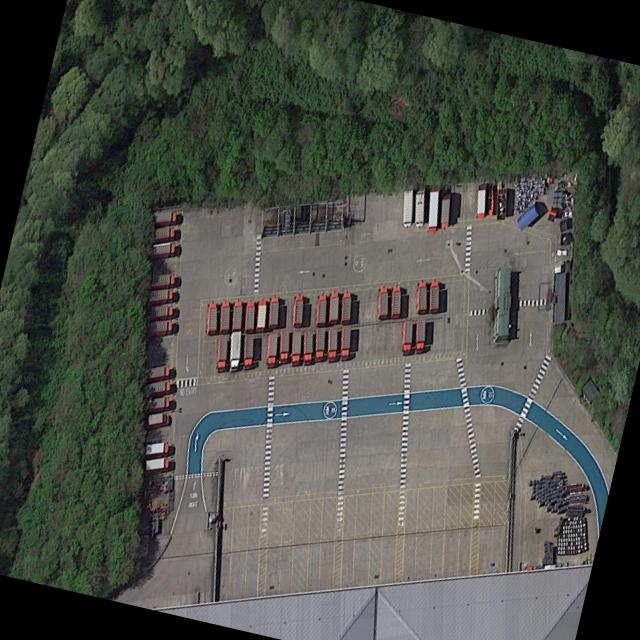large-vehicle: (425, 188, 438, 233), (226, 331, 239, 372), (148, 241, 174, 261), (147, 273, 174, 292), (142, 412, 168, 431), (144, 380, 170, 399), (214, 335, 227, 373), (149, 225, 174, 244), (144, 365, 169, 384), (399, 319, 412, 355), (146, 289, 172, 307), (146, 304, 172, 322), (143, 397, 169, 415), (412, 187, 423, 228), (413, 317, 425, 354), (150, 211, 176, 228), (146, 321, 172, 338), (400, 188, 411, 228), (242, 299, 254, 335), (264, 332, 276, 368), (473, 184, 485, 220), (266, 296, 278, 331), (291, 294, 303, 329), (338, 289, 349, 326), (376, 285, 387, 322), (388, 283, 399, 320), (414, 279, 425, 315), (438, 194, 449, 230), (338, 325, 349, 361), (241, 334, 252, 370), (289, 330, 300, 366), (217, 300, 228, 335), (254, 298, 265, 333), (326, 290, 337, 325), (312, 327, 323, 362), (143, 457, 168, 472), (314, 293, 325, 327), (426, 280, 437, 314), (277, 330, 288, 364), (143, 442, 168, 456), (301, 330, 311, 365), (230, 301, 241, 332), (205, 302, 215, 335), (326, 326, 335, 362)
